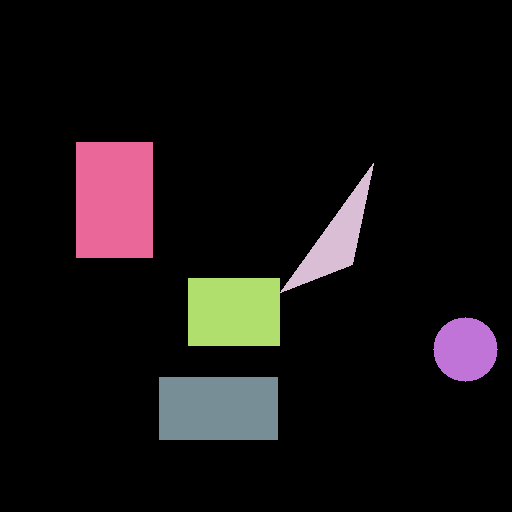circle: (188, 163, 373, 345), (433, 317, 497, 381)
rectangle: (76, 142, 152, 257), (159, 377, 277, 439)
